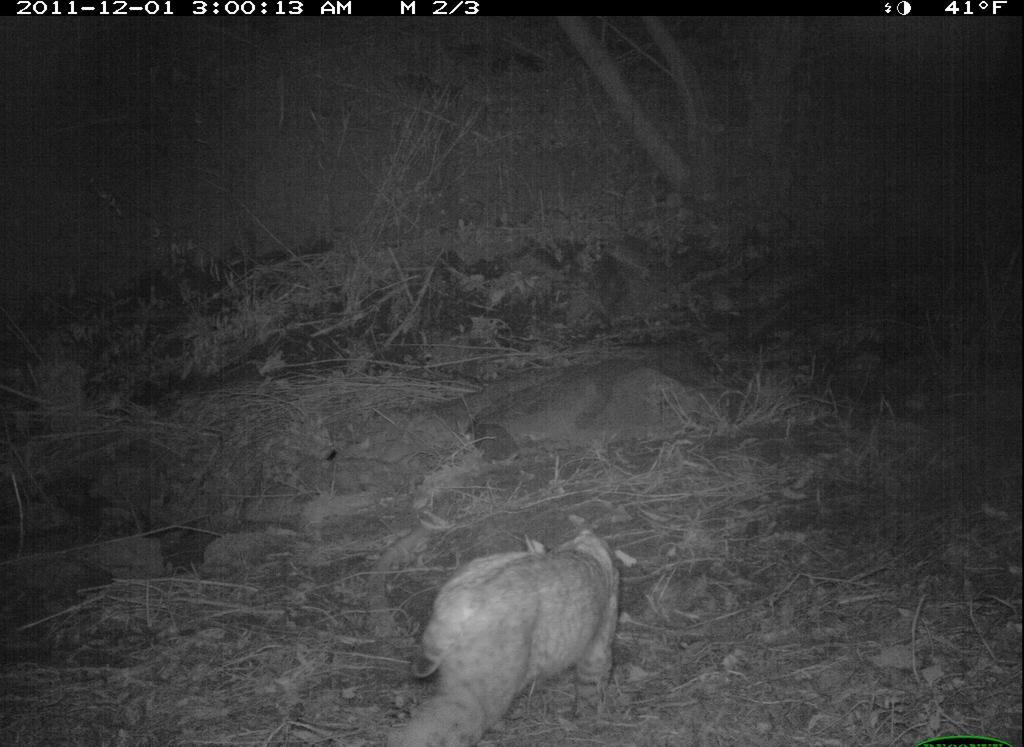bobcat: (358, 510, 637, 745)
